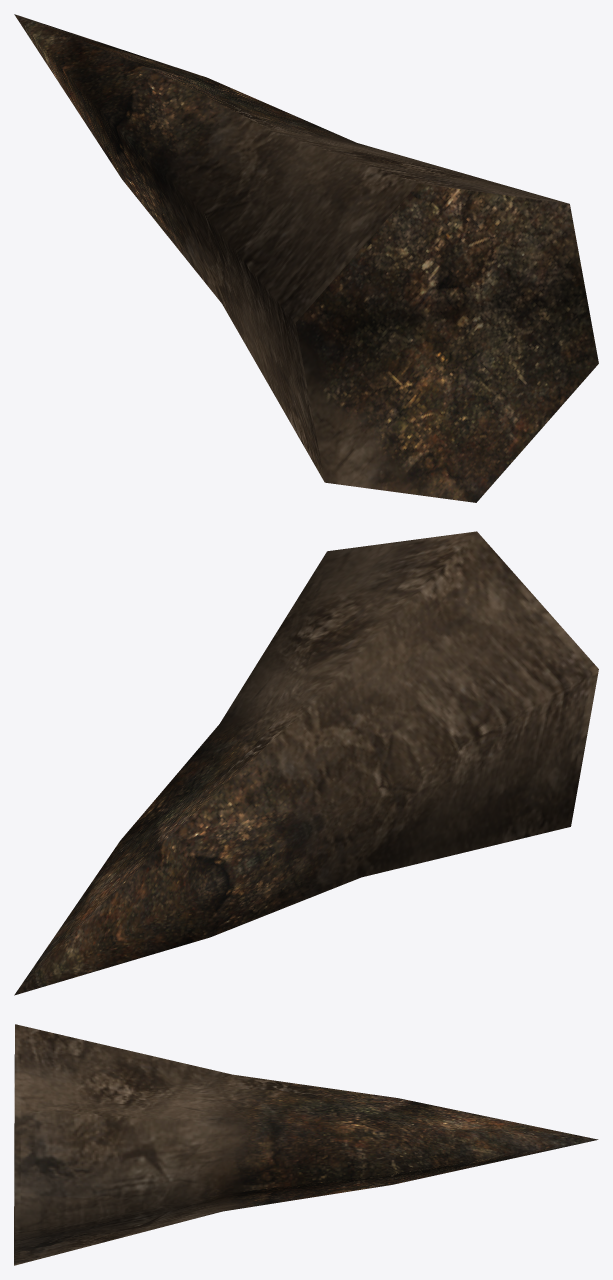
Rendered from stalactite_16.obj.
3 renders of one model, top to bottom at view 1: azimuth 30°, elevation 25°; view 2: azimuth 150°, elevation 25°; view 3: azimuth 270°, elevation 25°, orthographic. The views are drawn at different scales.
Visible parts, largest first — view 1: (null); view 2: (null); view 3: (null).
Part boxes in pixels (bbox=[...]): (null): bbox=[14, 14, 598, 502]; (null): bbox=[14, 531, 598, 995]; (null): bbox=[14, 1024, 598, 1265].
Size of the model in its own units: 2.14 by 2.25 by 5.35.
